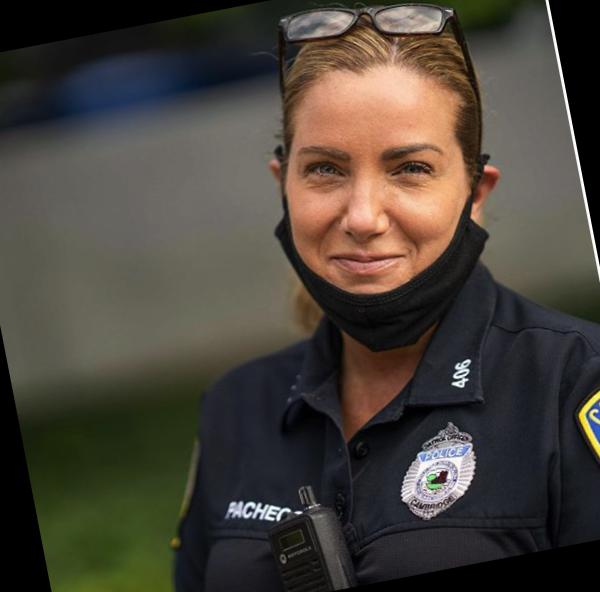mask_weared_incorrect: (291, 98, 487, 343)
